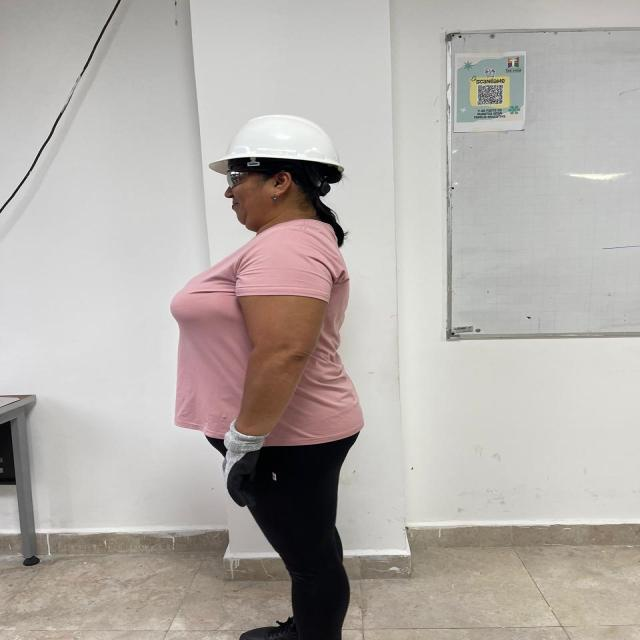gloves: (220, 419, 269, 507)
helmet: (209, 115, 346, 175)
